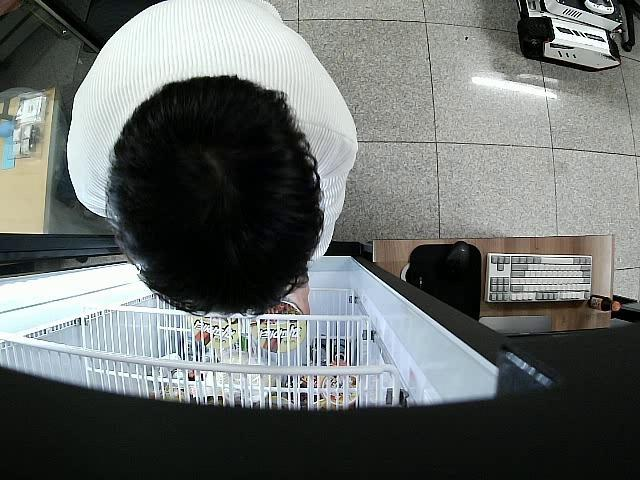03_chapagetti_L: (250, 301, 308, 352)
